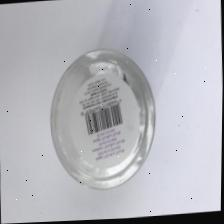plastic: (49, 46, 156, 192)
